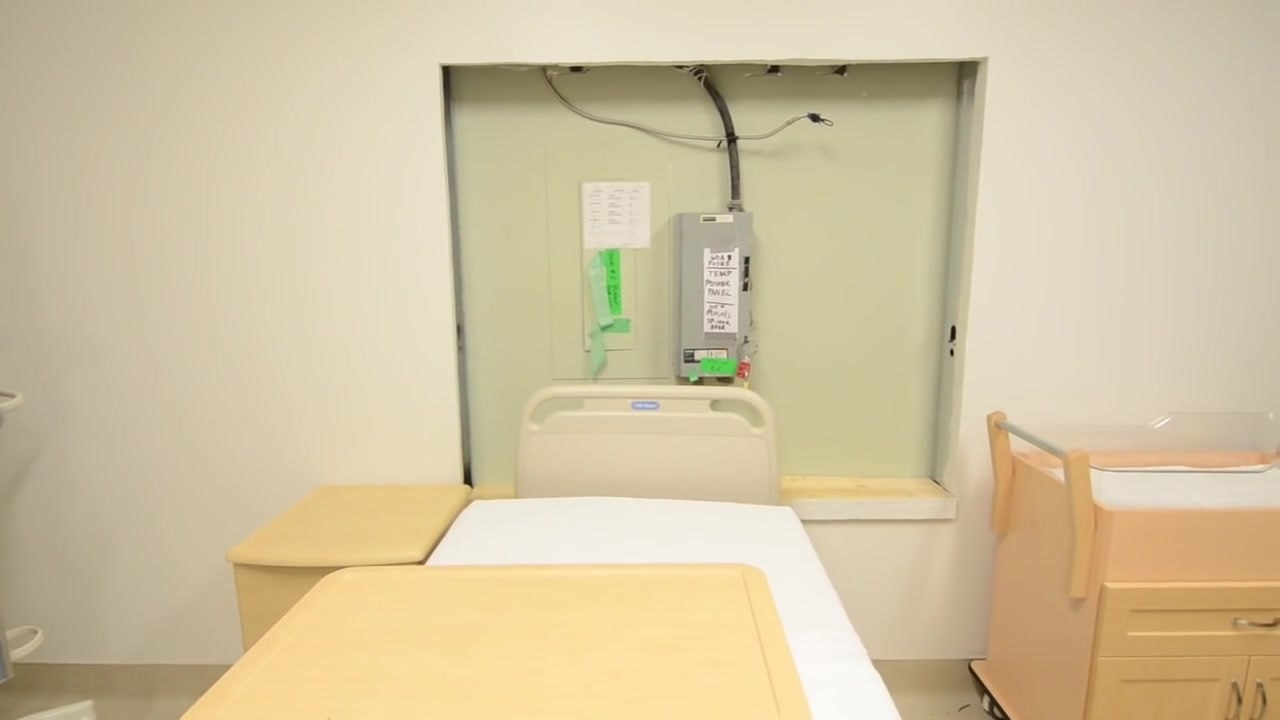bedside_table: (226, 482, 473, 651)
foot_board: (513, 383, 781, 505)
handle: (1231, 612, 1280, 635), (1228, 679, 1245, 720), (1253, 679, 1268, 718)
hospital_bed: (347, 383, 901, 720)
overbed_table: (180, 566, 815, 720)
